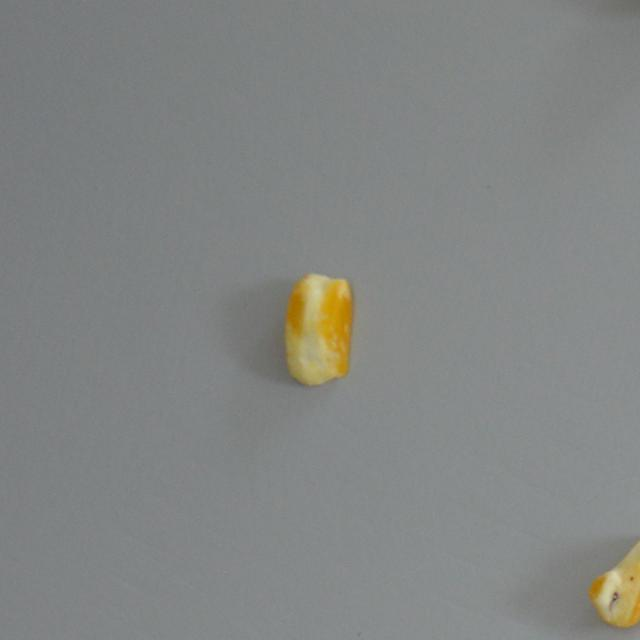dañado: (280, 268, 355, 392), (586, 524, 640, 632)
